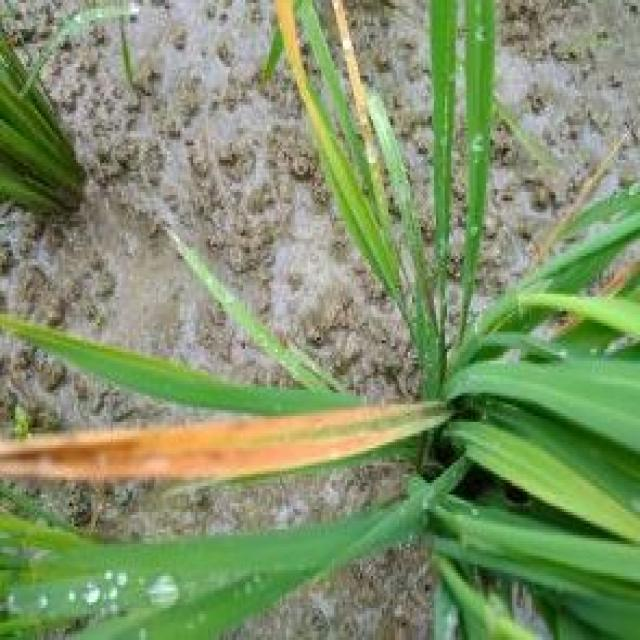Tungro: (3, 380, 457, 490), (270, 0, 386, 146)
